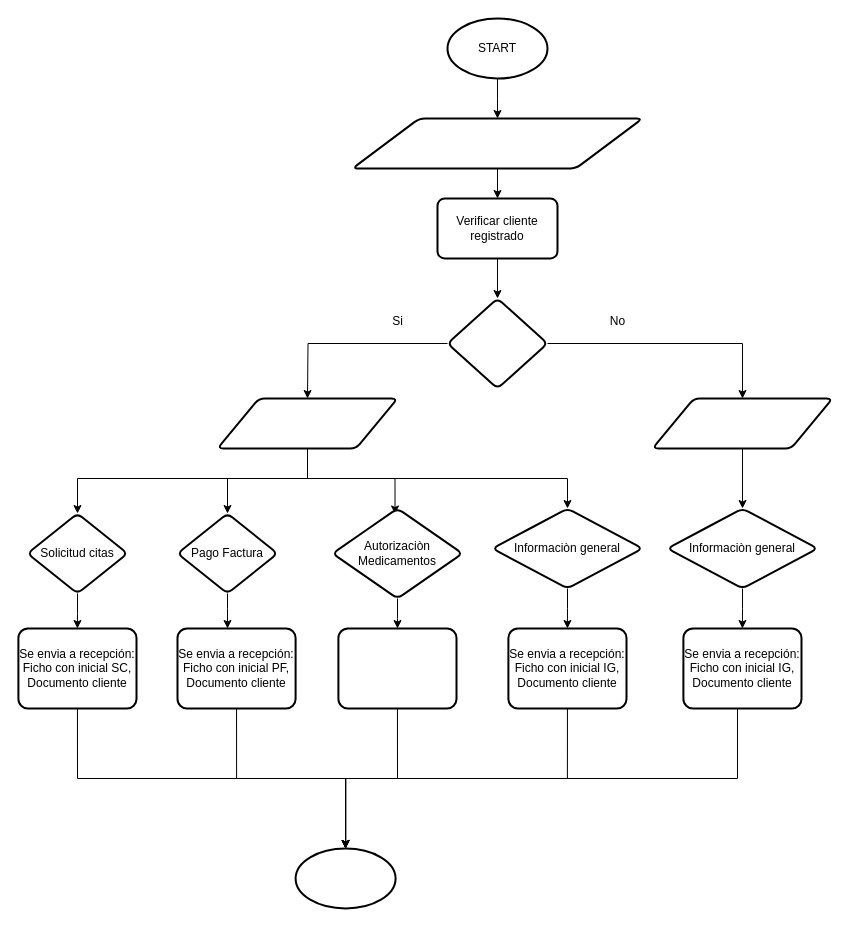
Some shapes in this 851 by 926 pixel diagram are drawn without their labels. The shapes that lost their labels are listed below. From the top down, each one's centre as x and y in pixels, then its label:
At (497,143): "Ingreso y tipo de documento cliente".
At (497,343): "Cliente existe".
At (307,423): "Opciones".
At (742,423): "Usuario no registrado".
At (397,668): "Se envia a recepción: Ficho con inicial AM, Documento cliente".
At (345,878): "FIN".
